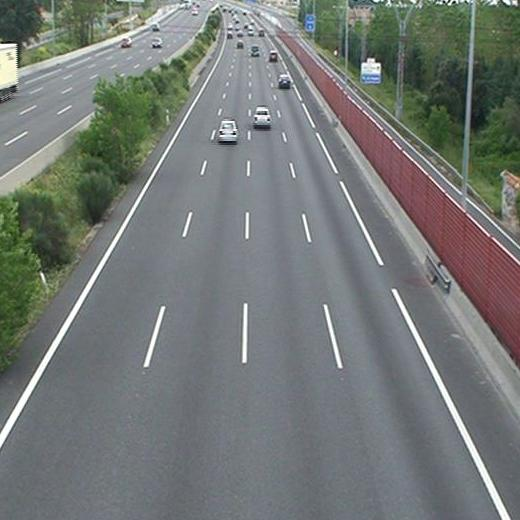car: (219, 121, 238, 140), (253, 108, 271, 125), (278, 74, 290, 87), (267, 52, 278, 63), (250, 45, 259, 56), (235, 40, 242, 48)
